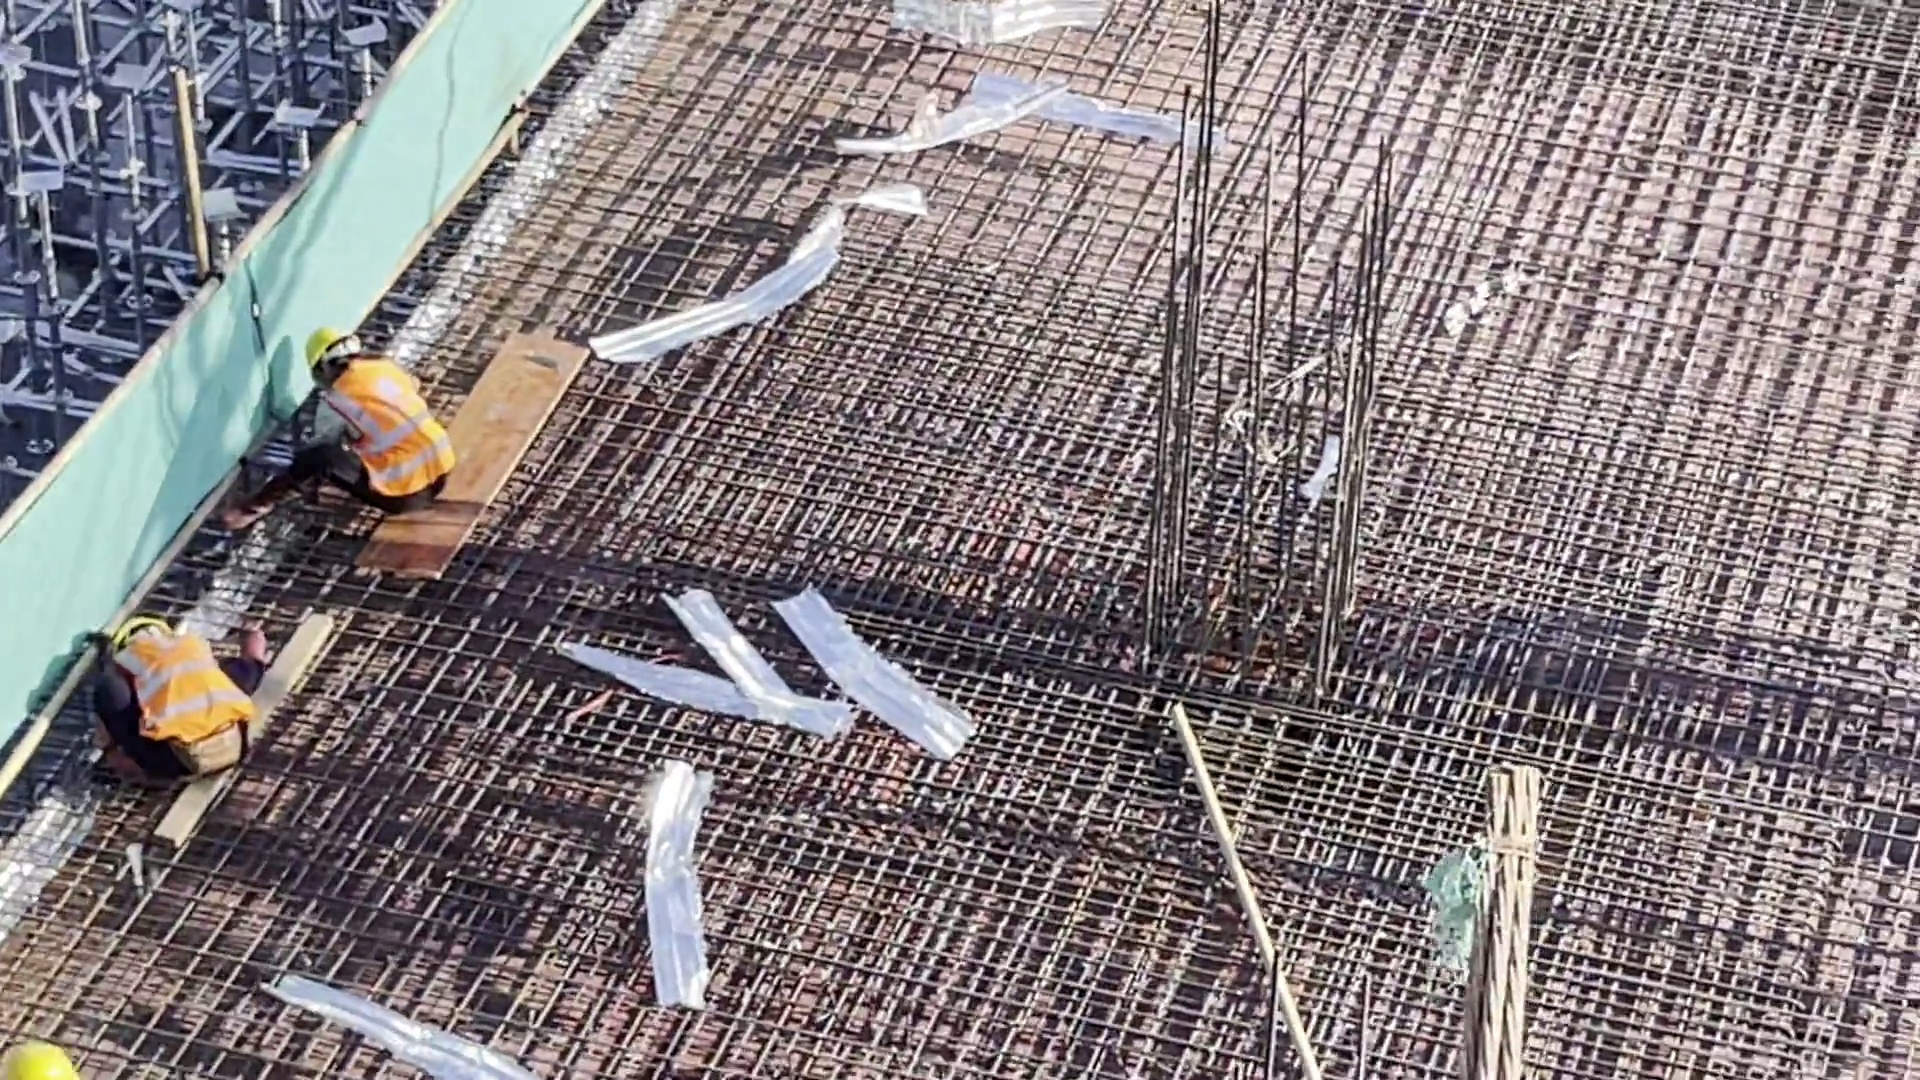helmet: (1, 1035, 72, 1080), (303, 326, 370, 356)
person: (296, 330, 459, 523), (89, 623, 252, 783)
vest: (338, 376, 453, 511), (116, 647, 234, 724)
